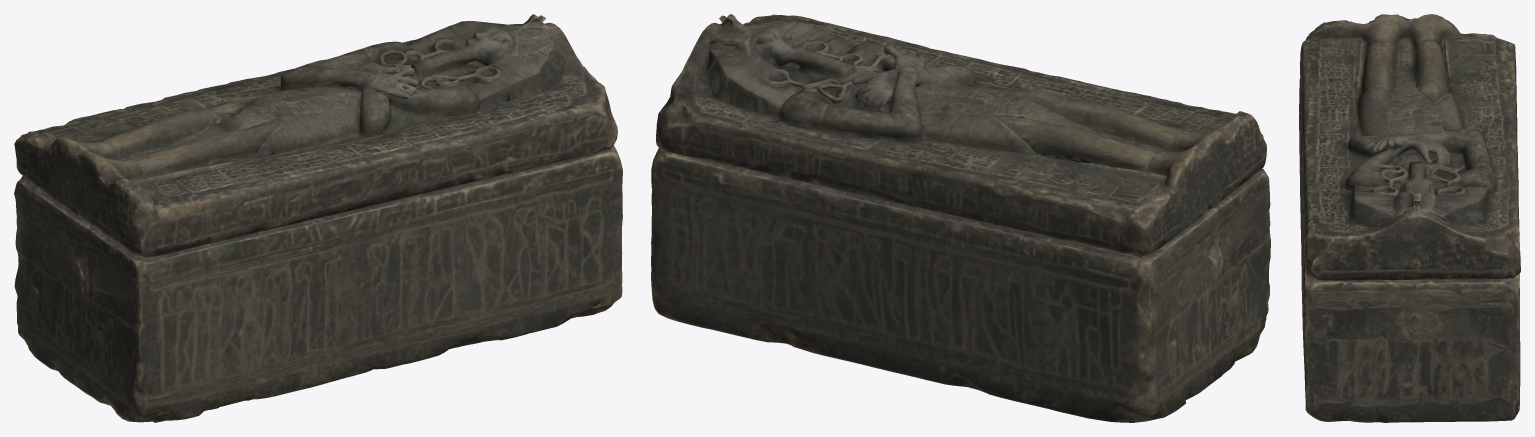
The model's file is sarcophagus_royal.glb.
3 renders of one model, left to right at view 1: azimuth 30°, elevation 25°; view 2: azimuth 150°, elevation 25°; view 3: azimuth 270°, elevation 25°, orthographic. The views are drawn at different scales.
Parts seen in each view (by area): view 1: sarcophagus, lid; view 2: sarcophagus, lid; view 3: lid, sarcophagus.
Boxes of the visible parts, x1,y1,x2,y2 form: sarcophagus: (14,146,622,422); lid: (14,14,617,266); sarcophagus: (651,147,1270,422); lid: (656,14,1266,262); lid: (1300,14,1520,280); sarcophagus: (1299,79,1520,422).
Size of the model in its own units: 2.7 by 1.35 by 1.22.
Materials: 1 (1 with a texture image).
